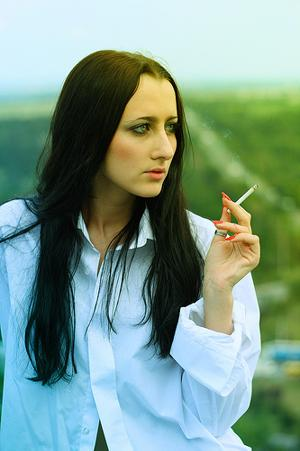person: (2, 46, 264, 448)
